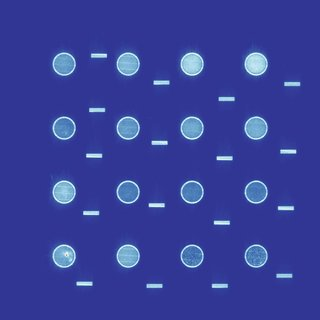overheated: (65, 253, 68, 257)
